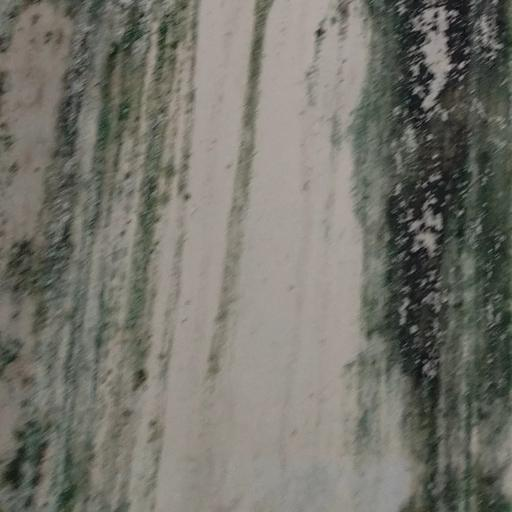algae: (295, 0, 512, 512)
